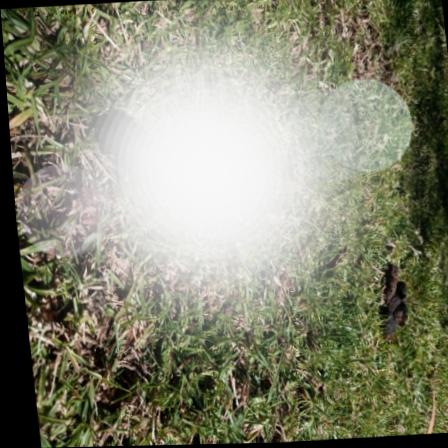dog-poop: (372, 273, 409, 335)
